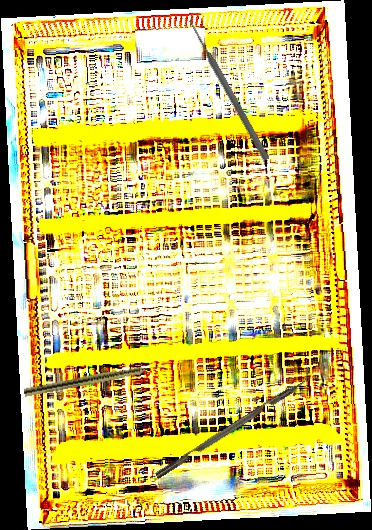Chopper: (149, 366, 317, 480)
Handpiece: (23, 360, 169, 399)
Pusher: (185, 18, 272, 162)
